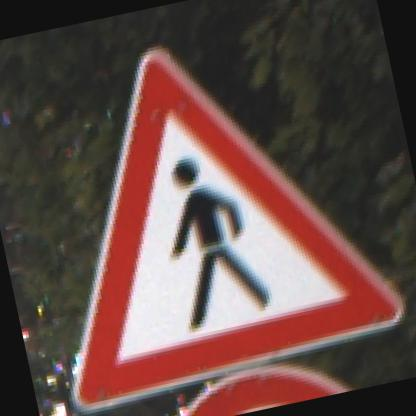crosswalk: (28, 44, 413, 415)
